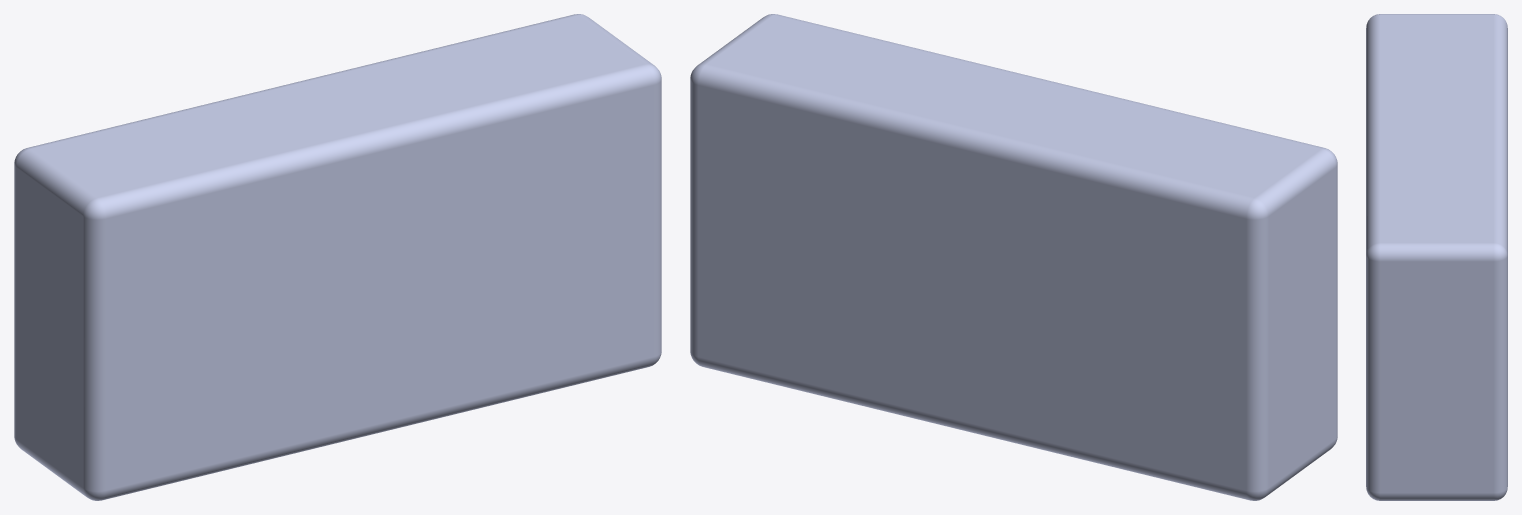
File: peça1.dae
3 views of the same model, side by side, from view 1: azimuth 30°, elevation 25°; view 2: azimuth 150°, elevation 25°; view 3: azimuth 270°, elevation 25° (orthographic). The views are drawn at different scales.
Visible parts, largest first — view 1: node_1fb2102b_0d64_4f3c_b0f3_187ee263e2ac_mesh0; view 2: node_1fb2102b_0d64_4f3c_b0f3_187ee263e2ac_mesh0; view 3: node_1fb2102b_0d64_4f3c_b0f3_187ee263e2ac_mesh0.
Part boxes in pixels (left/top/right/bottom): node_1fb2102b_0d64_4f3c_b0f3_187ee263e2ac_mesh0: left=14, top=14, right=661, bottom=500; node_1fb2102b_0d64_4f3c_b0f3_187ee263e2ac_mesh0: left=690, top=14, right=1337, bottom=500; node_1fb2102b_0d64_4f3c_b0f3_187ee263e2ac_mesh0: left=1366, top=14, right=1507, bottom=500.
Bounding box in the file's own units: 0.2 × 0.1 × 0.05.
